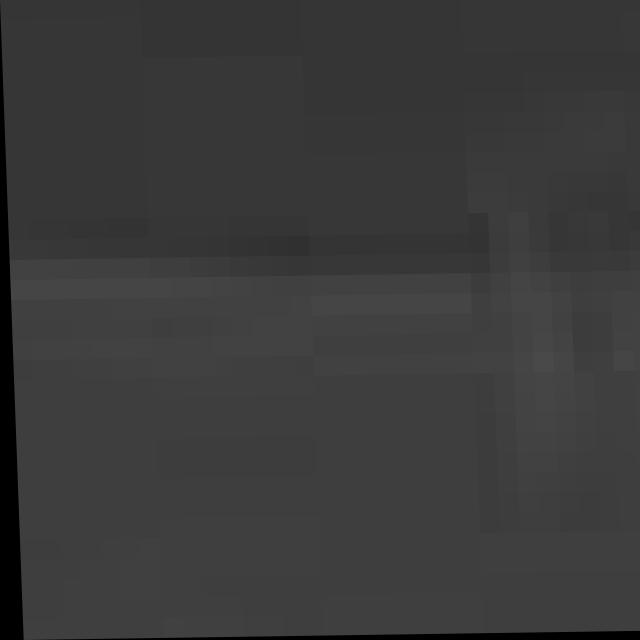fracture: (16, 8, 640, 636)
